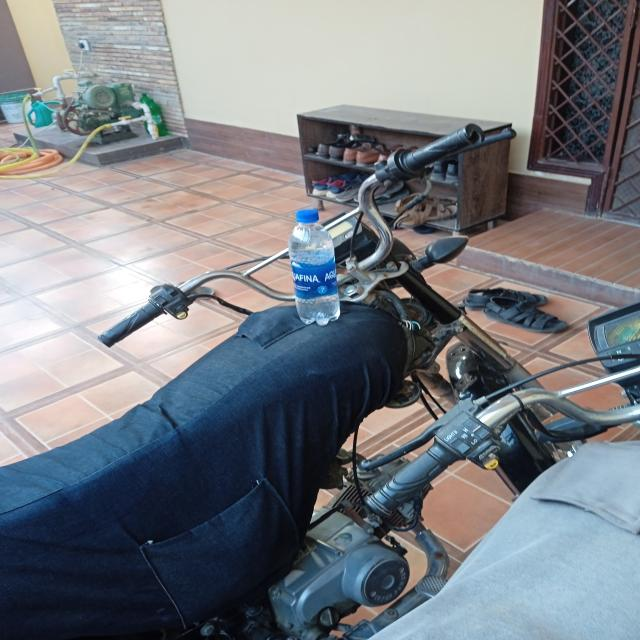Plastic: (285, 206, 347, 329)
